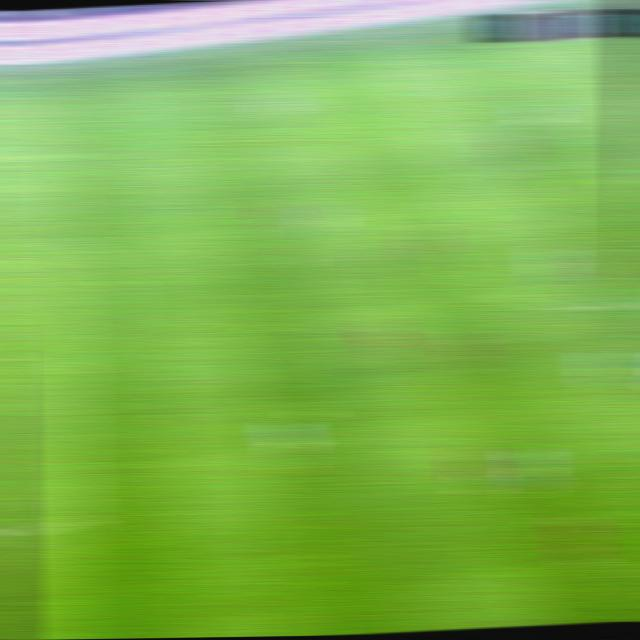bigarea_bottom_inner: (54, 505, 93, 532)
bigarea_top_inner: (41, 146, 78, 170)
bottom_arc_area_intersection: (50, 354, 90, 381)
halfcircle_bottom: (593, 295, 628, 315)
halfcircle_top: (499, 157, 534, 175)
midline_top_intersection: (416, 32, 452, 50)
top_arc_area_intersection: (47, 232, 84, 250)
